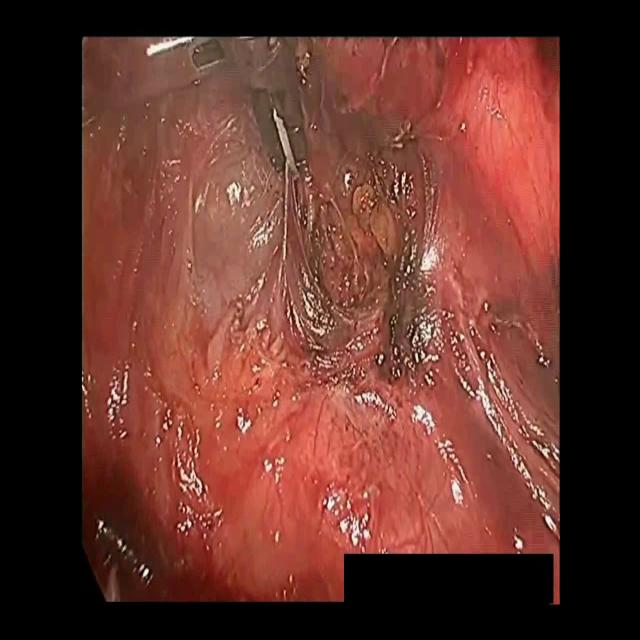surgical-area: (82, 37, 560, 604)
